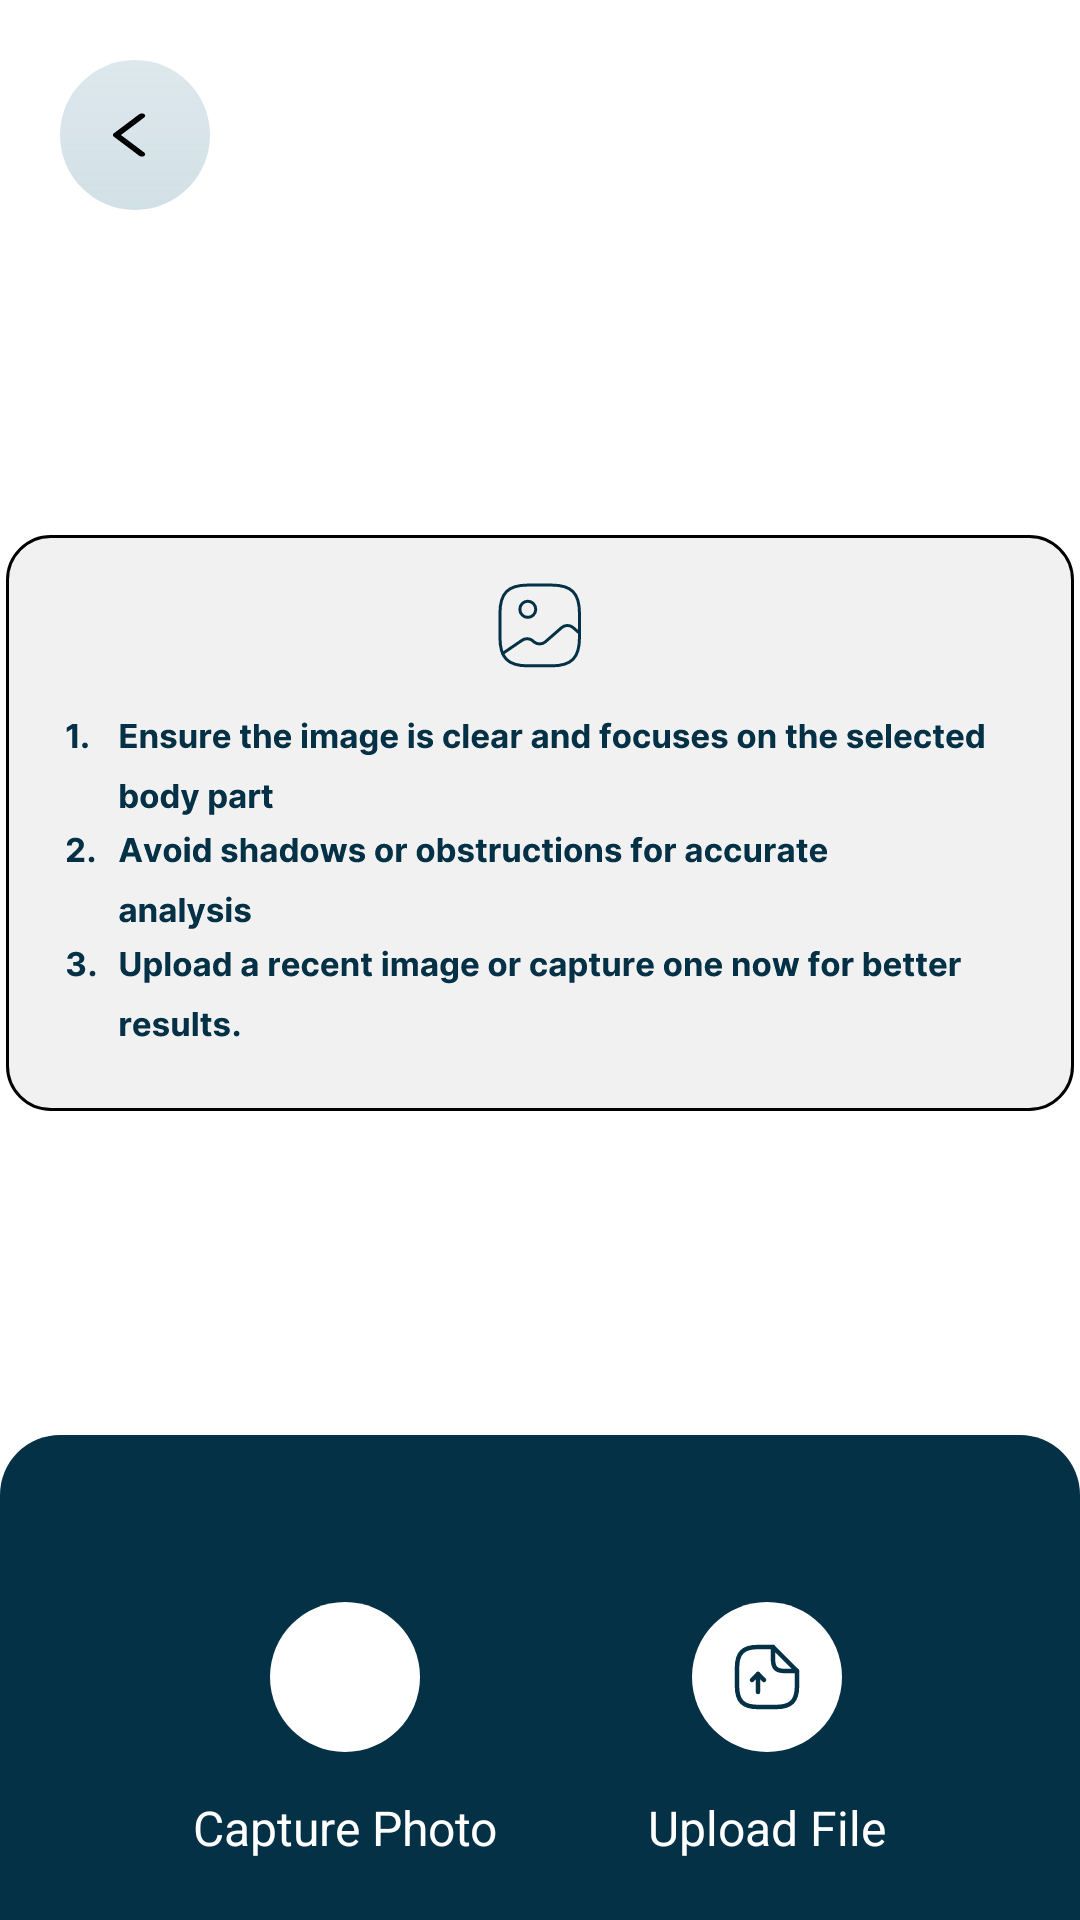

Where icons sit on this 1080 × 1920 app screen, as detection(x1, y1, x2, y2):
back arrow: detection(113, 113, 146, 157)
upload document: detection(734, 1644, 800, 1710)
